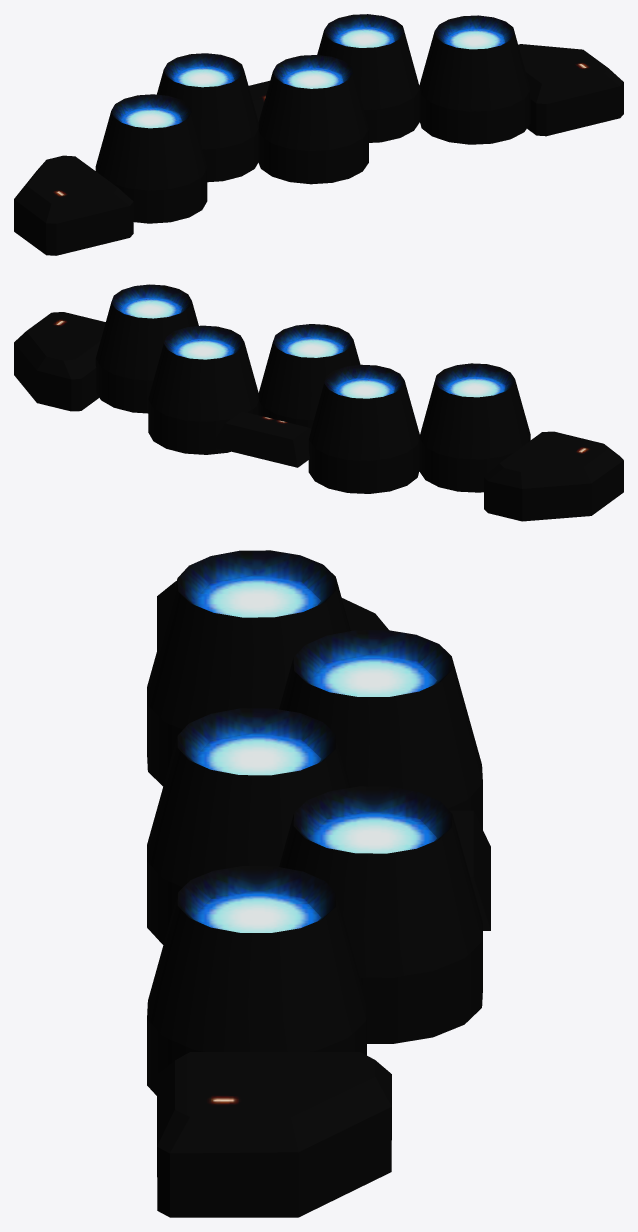
The model's file is hgn_flagship_explorer_04_engine_m_01.glb.
3 views of the same model, one above another, from view 1: azimuth 30°, elevation 25°; view 2: azimuth 150°, elevation 25°; view 3: azimuth 270°, elevation 25° (orthographic). The views are drawn at different scales.
Parts seen in each view (by area): view 1: hgn_flagship_explorer_04_engine_m_01; view 2: hgn_flagship_explorer_04_engine_m_01; view 3: hgn_flagship_explorer_04_engine_m_01.
Boxes of the visible parts, bbox=[...] form: hgn_flagship_explorer_04_engine_m_01: bbox=[14, 14, 623, 255]; hgn_flagship_explorer_04_engine_m_01: bbox=[14, 284, 623, 521]; hgn_flagship_explorer_04_engine_m_01: bbox=[147, 550, 490, 1217].
Bounding box in the file's own units: 2.9 × 0.4656 × 0.7488.
Materials: 1 (1 with a texture image).
